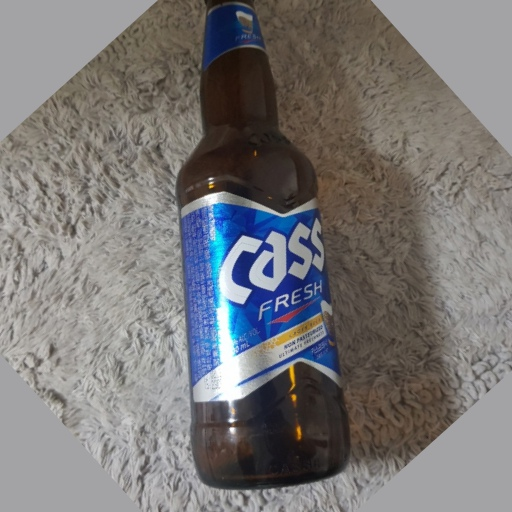Glass_1: (173, 1, 356, 486)
